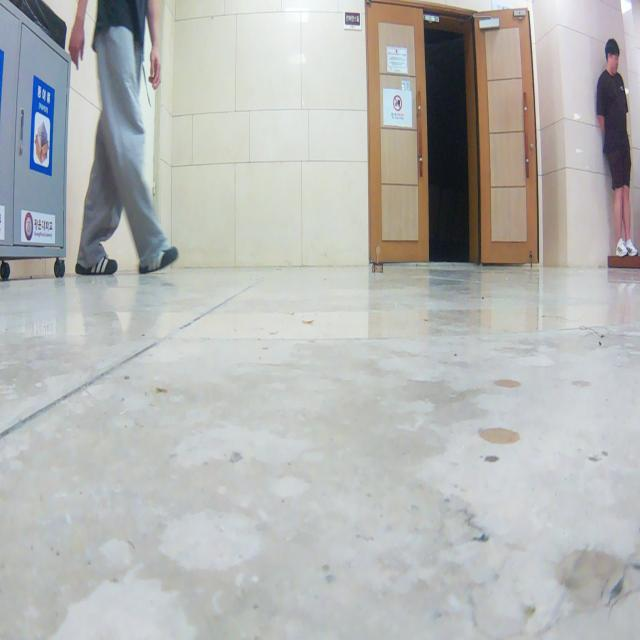target: (372, 243, 384, 275)
